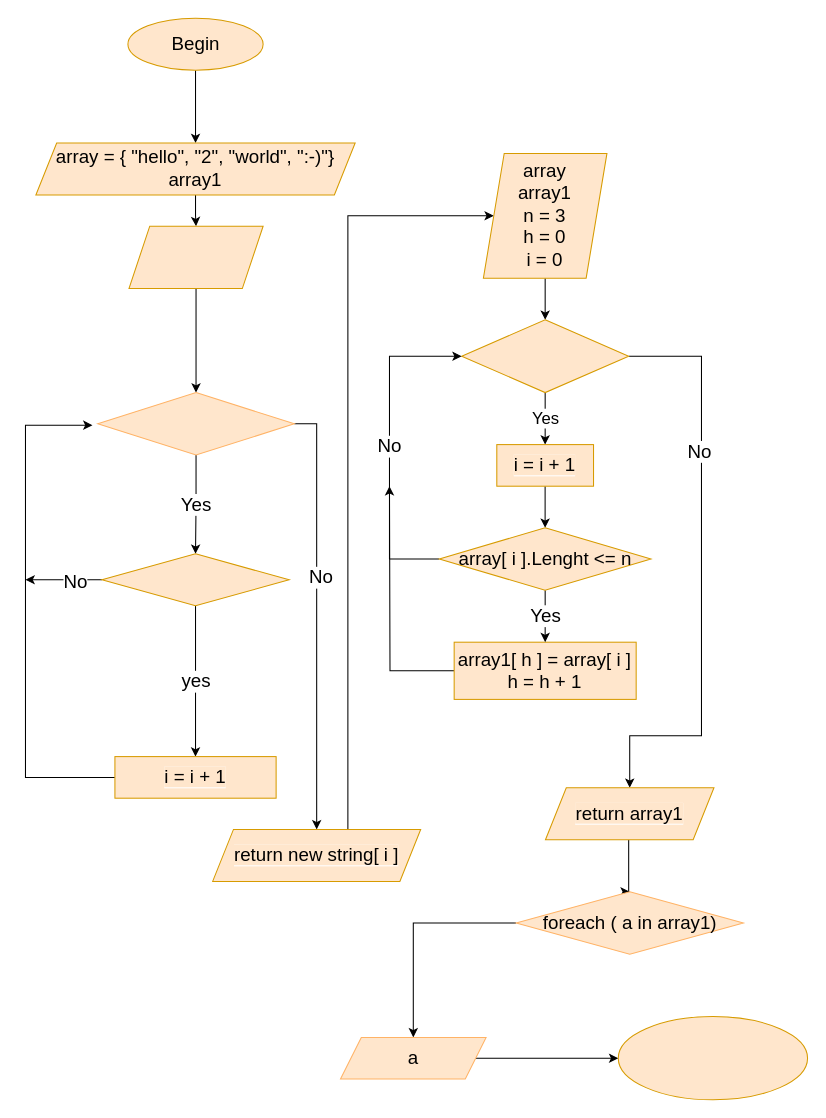
The diagram is 826 pixels wide and 1118 high, and some of its shapes have lost their labels. Here are the shapes that lost their labels. From the top down, the centre of each, then its label:
At point 195,257: "array n = 3 i = 0".
At point 545,356: "i < array.Lenght".
At point 195,423: "foreach (a in array)".
At point 195,579: "a.Length <= n".
At point 712,1058: "End".
